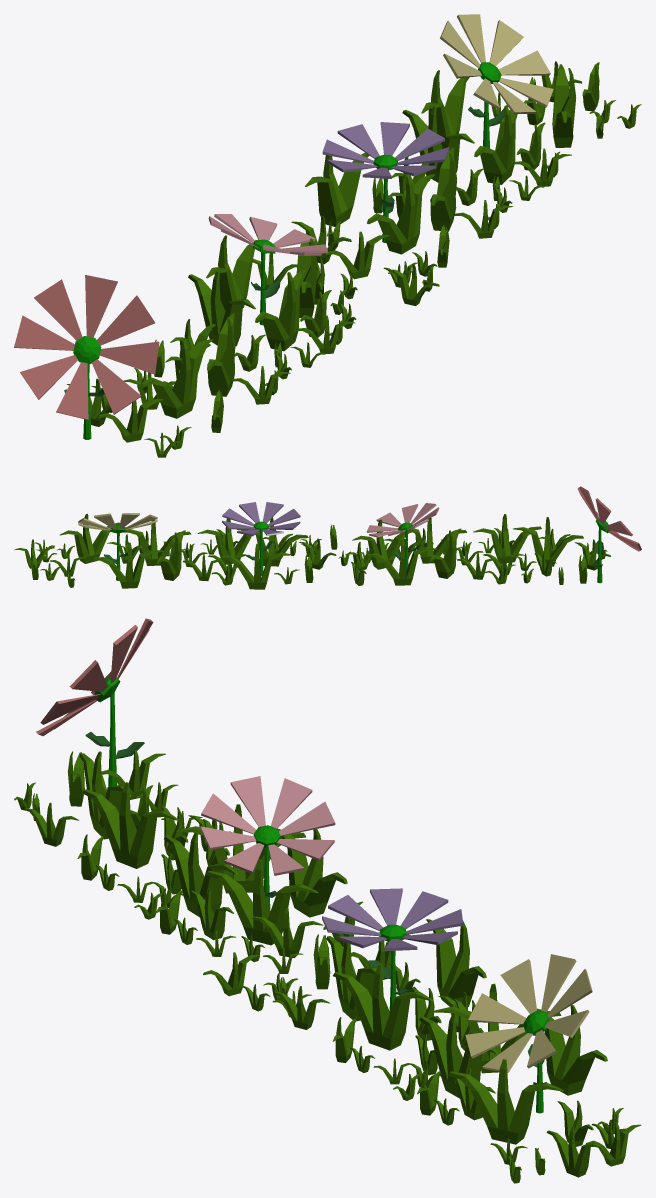
Rendered from hierba_Edge_C_B.fbx.
The picture shows the model from 3 angles, top to bottom: view 1: azimuth 30°, elevation 25°; view 2: azimuth 150°, elevation 25°; view 3: azimuth 270°, elevation 25°; orthographic projection. The views are drawn at different scales.
Visible parts, largest first — view 1: Hierba_Edge_C_B; view 2: Hierba_Edge_C_B; view 3: Hierba_Edge_C_B.
Part boxes in pixels (x1,y1,x2,y2): Hierba_Edge_C_B: [14, 14, 641, 457]; Hierba_Edge_C_B: [14, 486, 641, 589]; Hierba_Edge_C_B: [14, 618, 641, 1183].
Size of the model in its own units: 152 by 27.87 by 92.84.
